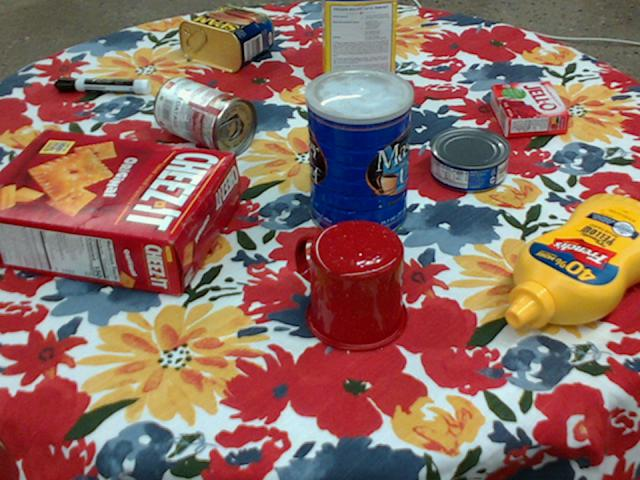cracker_box: (0, 129, 239, 294)
gelatin_box: (489, 82, 567, 138)
large_marker: (56, 77, 150, 93)
master_chef_can: (304, 67, 412, 241)
mug: (294, 219, 408, 352)
mustard_bottle: (506, 191, 639, 326)
potted_meat_can: (179, 4, 274, 71)
sugar_box: (323, 0, 398, 83)
tomato_soup_can: (152, 76, 256, 156)
tuna_fish_can: (430, 127, 510, 192)
